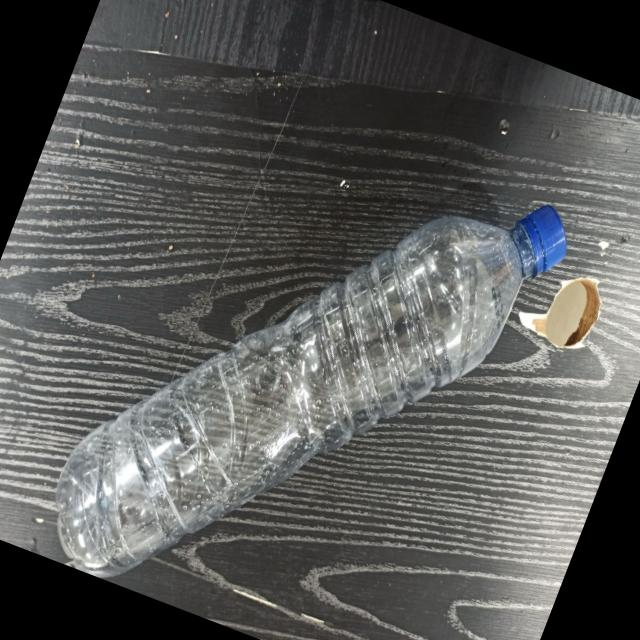BotolPlastik: (29, 75, 581, 640)
